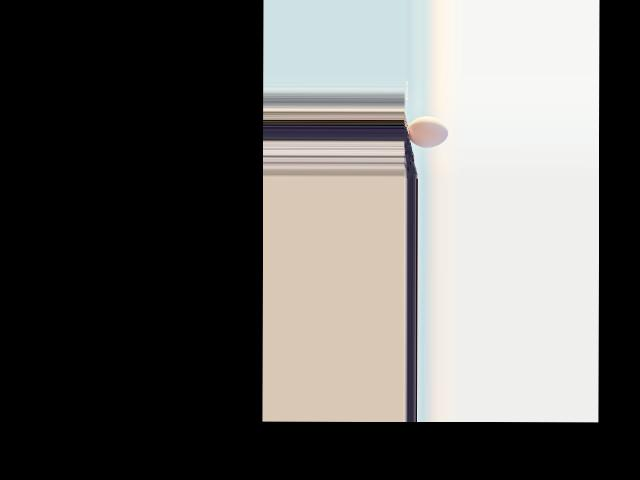egg: (408, 115, 448, 147)
